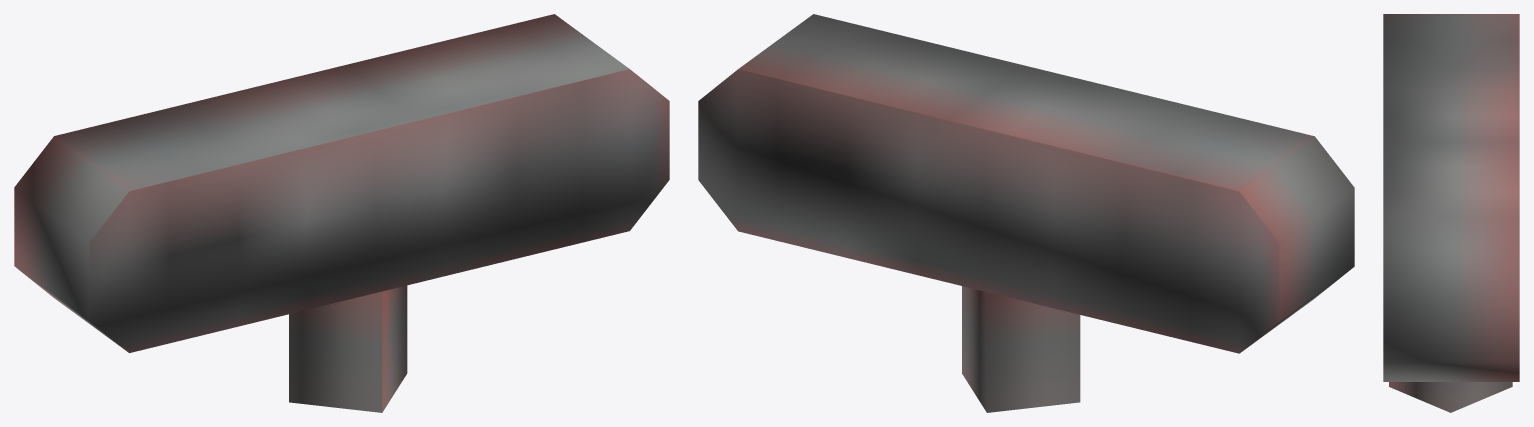
Rendered from Radar1.FBX.
The picture shows the model from 3 angles, left to right: view 1: azimuth 30°, elevation 25°; view 2: azimuth 150°, elevation 25°; view 3: azimuth 270°, elevation 25°; orthographic projection. The views are drawn at different scales.
Visible parts, largest first — view 1: Radar1; view 2: Radar1; view 3: Radar1.
Boxes of the visible parts, x1=… form: Radar1: x1=14, y1=14, x2=669, y2=412; Radar1: x1=698, y1=14, x2=1354, y2=412; Radar1: x1=1383, y1=14, x2=1519, y2=412.
Bounding box in the file's own units: 14.56 × 6.87 × 3.27.
Materials: 1 (1 with a texture image).
